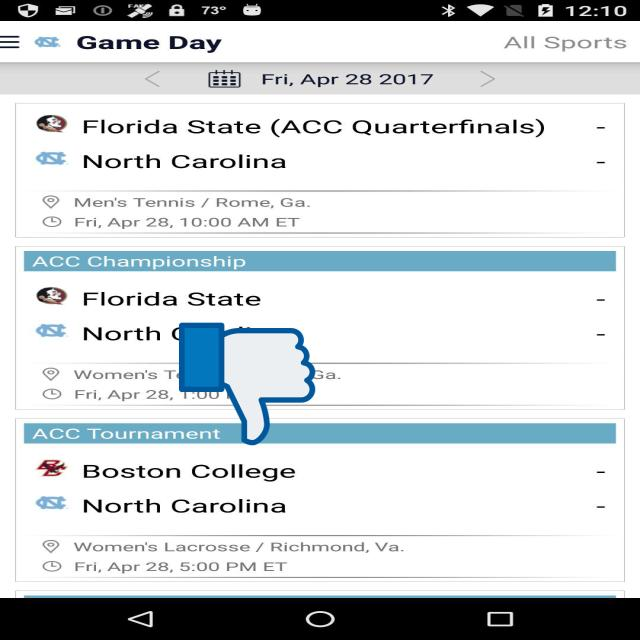obstruction: (179, 320, 315, 448)
